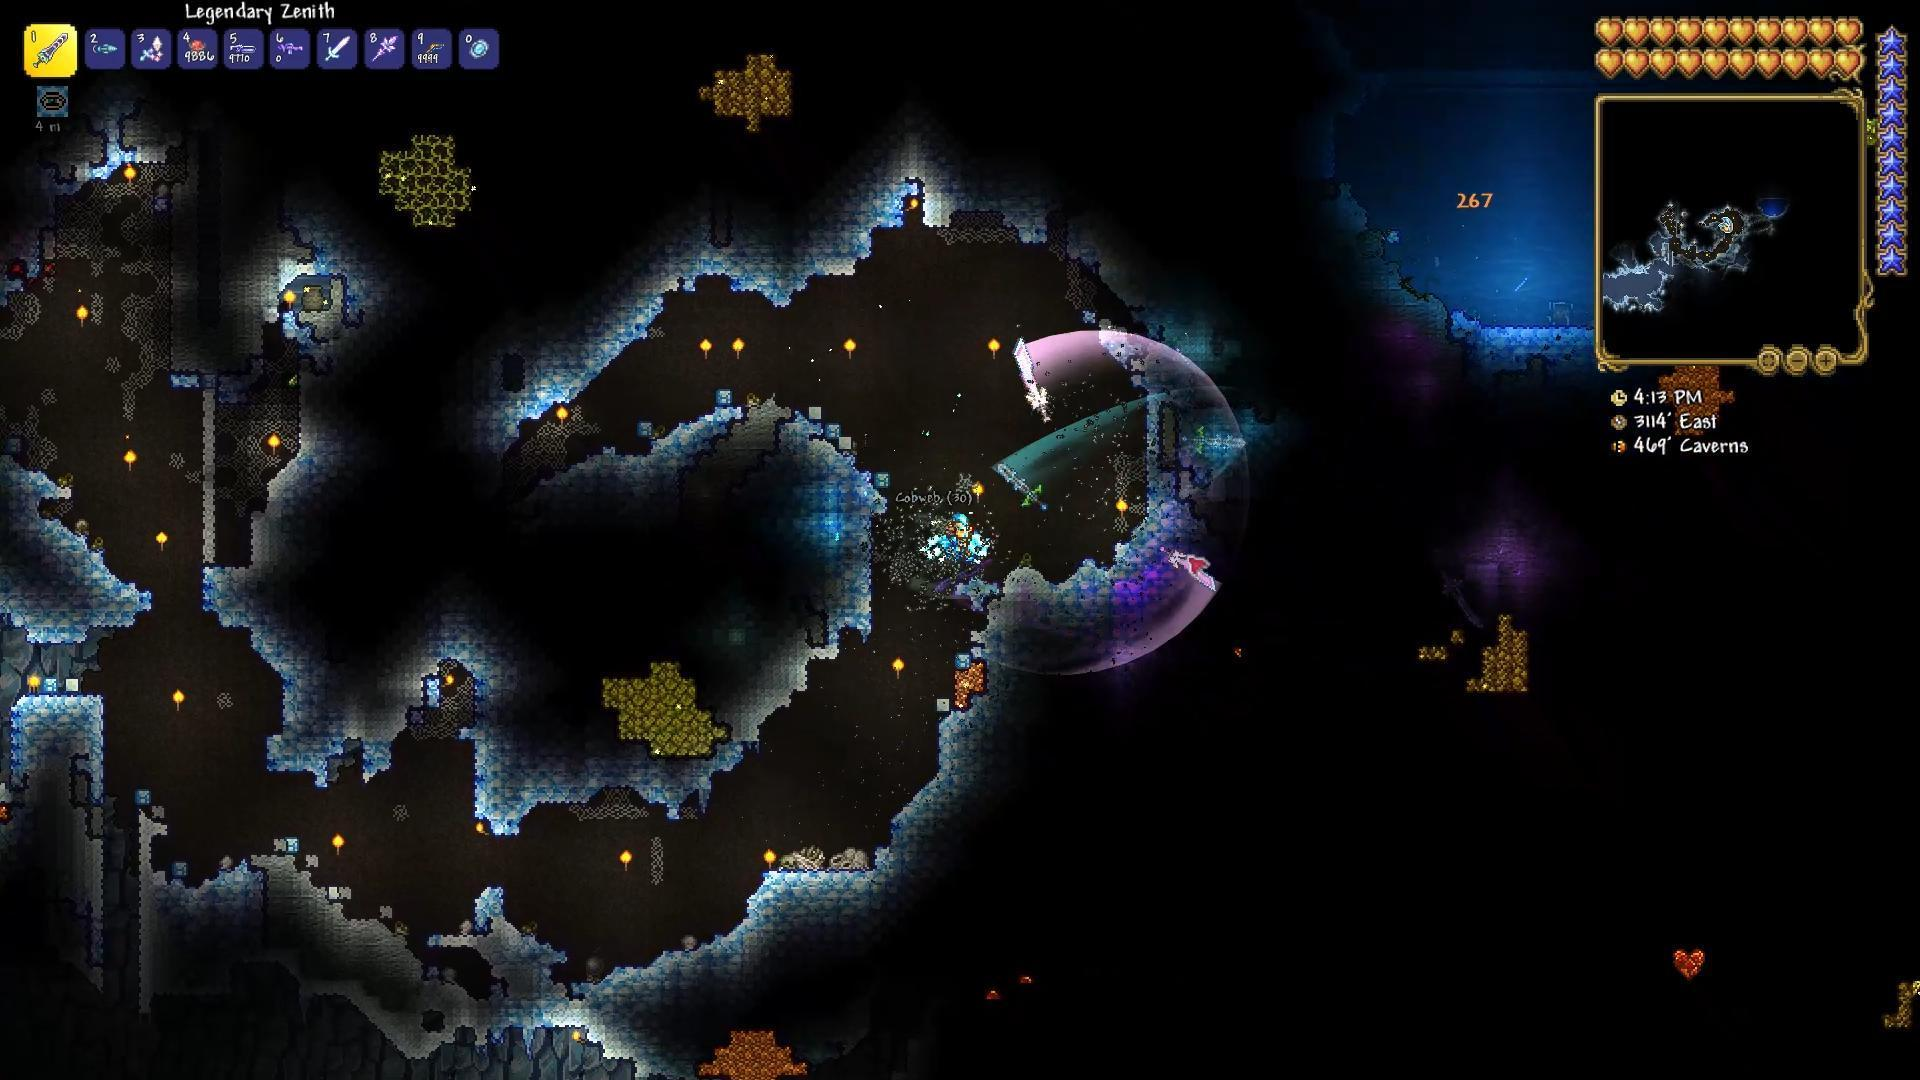lifeC: (1665, 945, 1704, 982)
pot: (1545, 301, 1578, 330)
